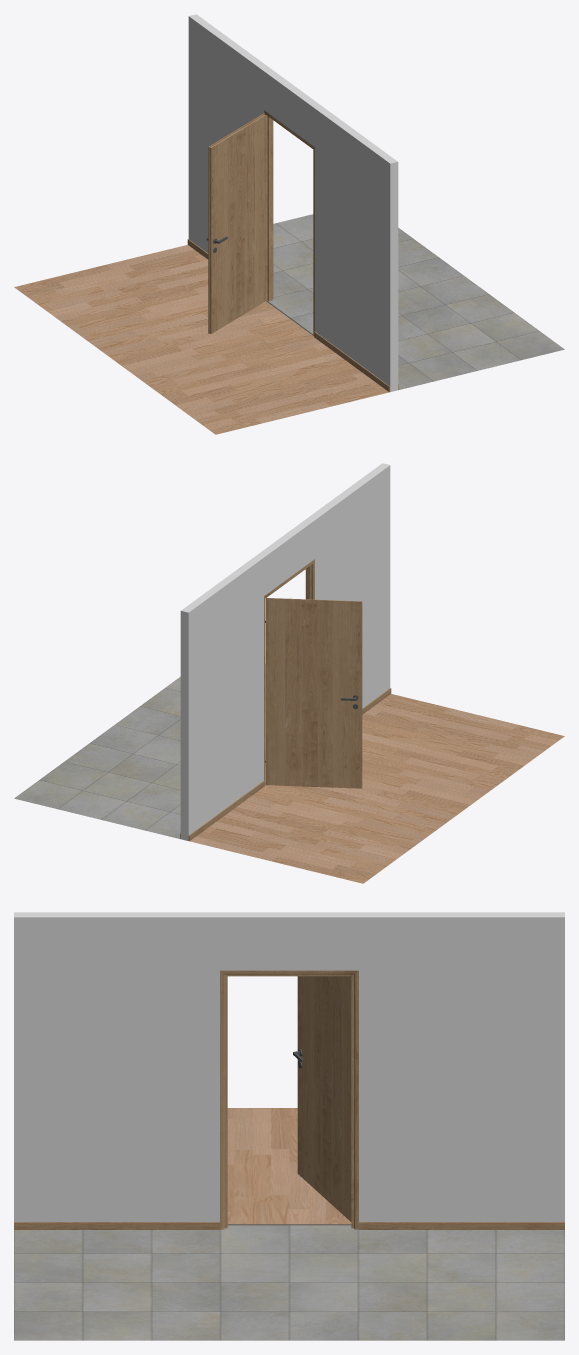
The model's file is 90cm_interior_door.glb.
3 views of the same model, one above another, from view 1: azimuth 30°, elevation 25°; view 2: azimuth 150°, elevation 25°; view 3: azimuth 270°, elevation 25° (orthographic). The views are drawn at different scales.
Visible parts, largest first — view 1: Floor, Wall, Door, Framuga, Listwa; view 2: Floor, Wall, Door, Framuga, Listwa; view 3: Wall, Floor, Door, Framuga, Listwa.
Boxes of the visible parts, x1,y1,x2,y2 form: Floor: [14, 214, 564, 434]; Wall: [188, 14, 398, 391]; Door: [206, 113, 265, 333]; Framuga: [264, 110, 314, 335]; Listwa: [187, 239, 398, 392]; Floor: [14, 663, 564, 883]; Wall: [180, 463, 390, 840]; Door: [265, 598, 362, 788]; Framuga: [264, 559, 314, 784]; Listwa: [180, 688, 391, 841]; Wall: [14, 912, 564, 1221]; Floor: [14, 1108, 564, 1340]; Door: [293, 976, 351, 1221]; Framuga: [220, 970, 358, 1229]; Listwa: [14, 1222, 564, 1229].
Size of the model in its own units: 4 by 2.5 by 4.
Materials: 5 (3 with a texture image).
